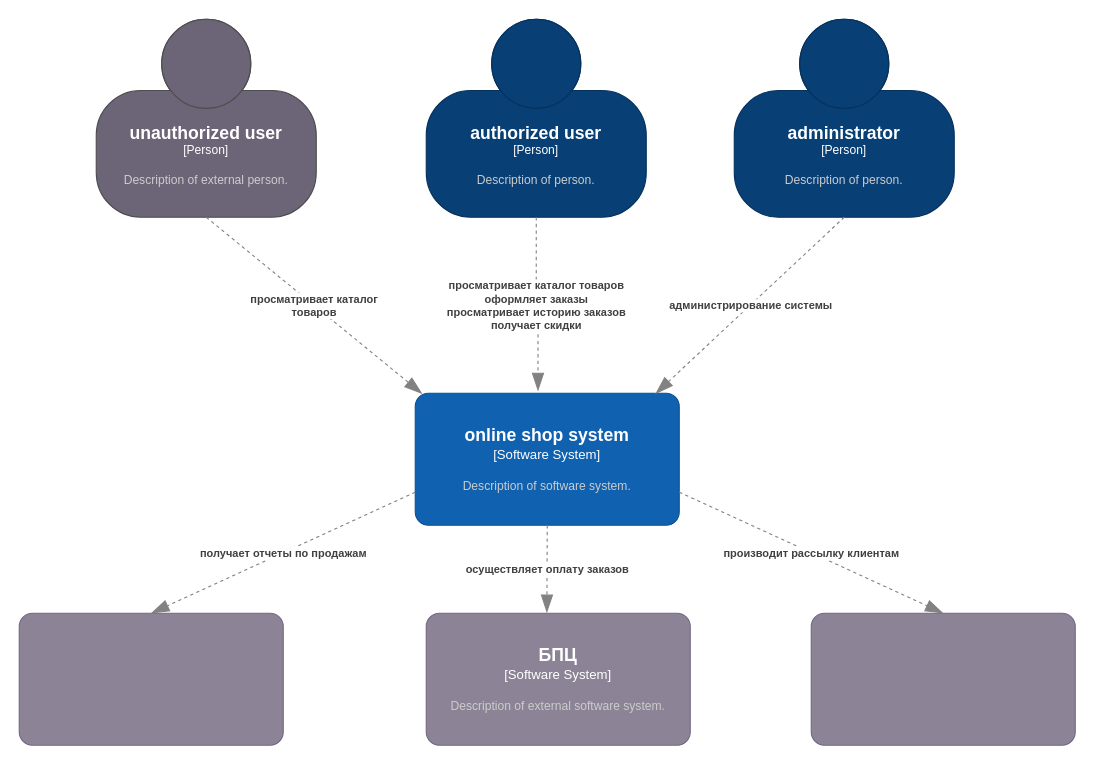
This 1095x765 diagram has some shape labels left out. Here are the shapes that lost their labels. From the top down, the centre of each, then its label:
At (150,678): "accounting system [Software System] Description of external software system.".
At (942,678): "Email Gate [Software System] Description of external software system.".
